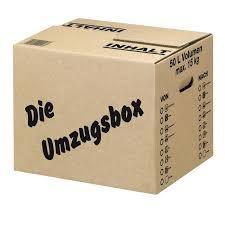box: (13, 18, 214, 195)
